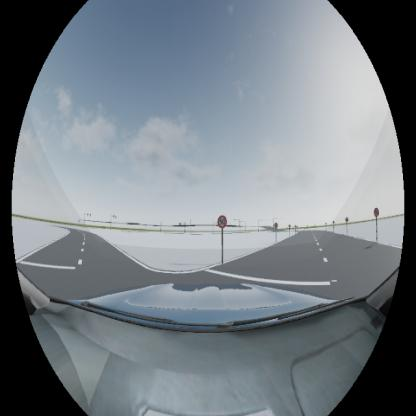Speed Limit 50: (217, 215, 227, 228)
